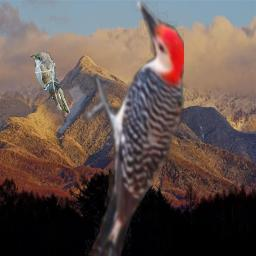Cuckoo: (30, 52, 70, 113)
Woodpecker: (82, 0, 184, 256)
